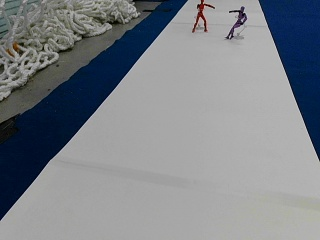pedestrian: (225, 5, 246, 39), (191, 1, 214, 32)
